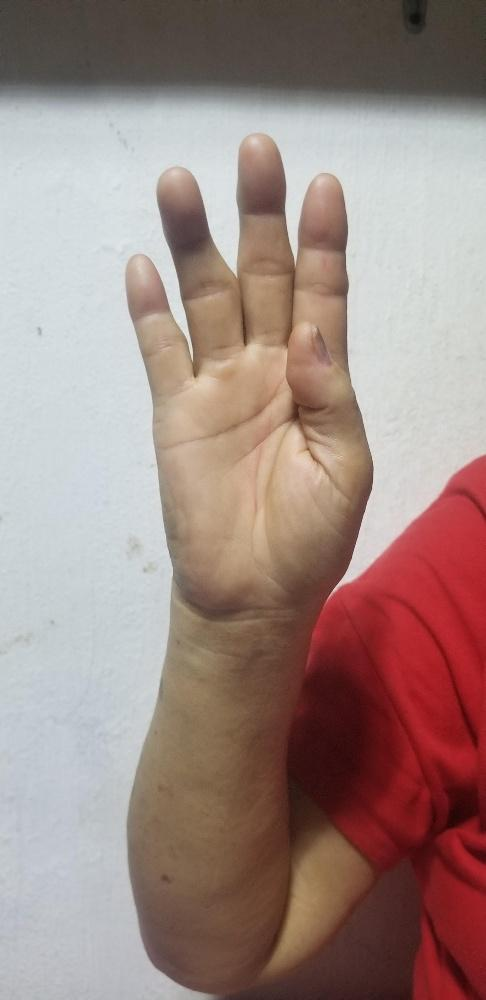b: (123, 130, 375, 608)
